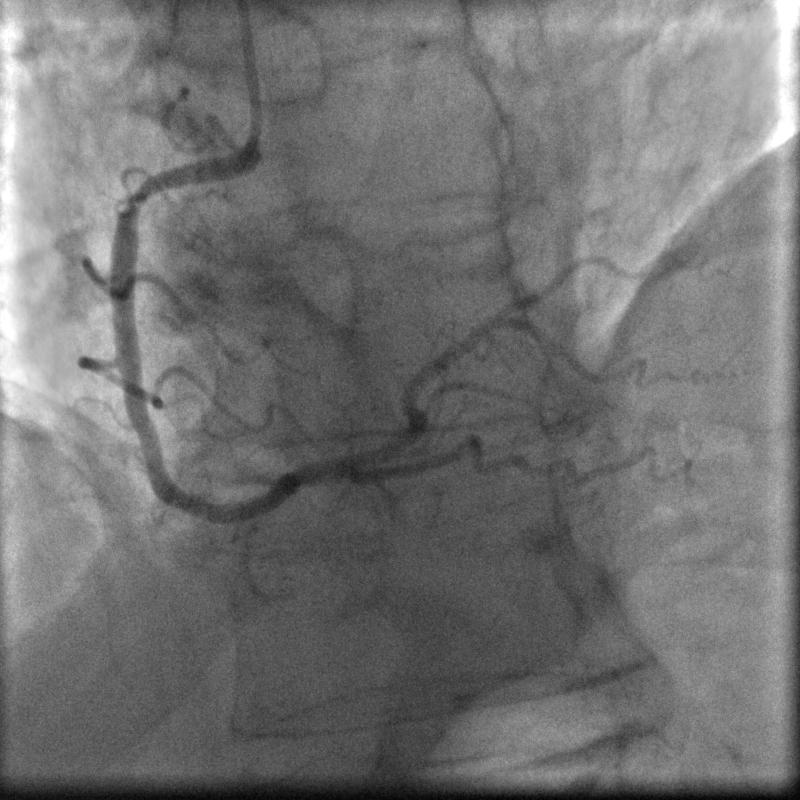Stenosis: (116, 174, 155, 222)
